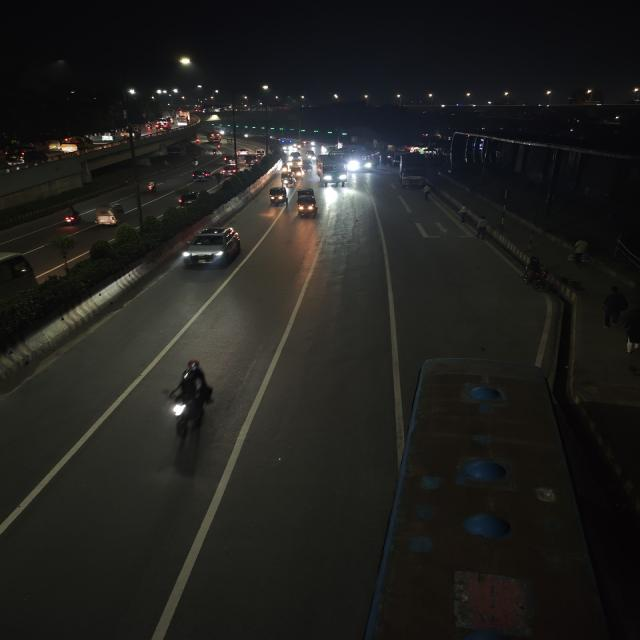bus: (387, 351, 639, 640), (315, 154, 350, 186), (356, 146, 377, 172)
car: (179, 225, 246, 273), (174, 188, 211, 208), (190, 167, 214, 182), (220, 164, 239, 177), (221, 154, 236, 166), (288, 151, 302, 163), (210, 143, 223, 155), (235, 146, 248, 156)
cng: (92, 201, 125, 228), (296, 186, 319, 219), (266, 185, 289, 208), (279, 174, 298, 188), (4, 156, 24, 168), (289, 166, 304, 180)
motorcycle: (151, 357, 228, 453), (519, 256, 556, 294), (59, 204, 84, 228), (141, 178, 160, 195)
pedestrian: (598, 283, 628, 329), (567, 238, 593, 268), (456, 204, 473, 226), (421, 183, 435, 205)
pickup_van: (60, 137, 94, 154)
truck: (397, 153, 425, 189)
